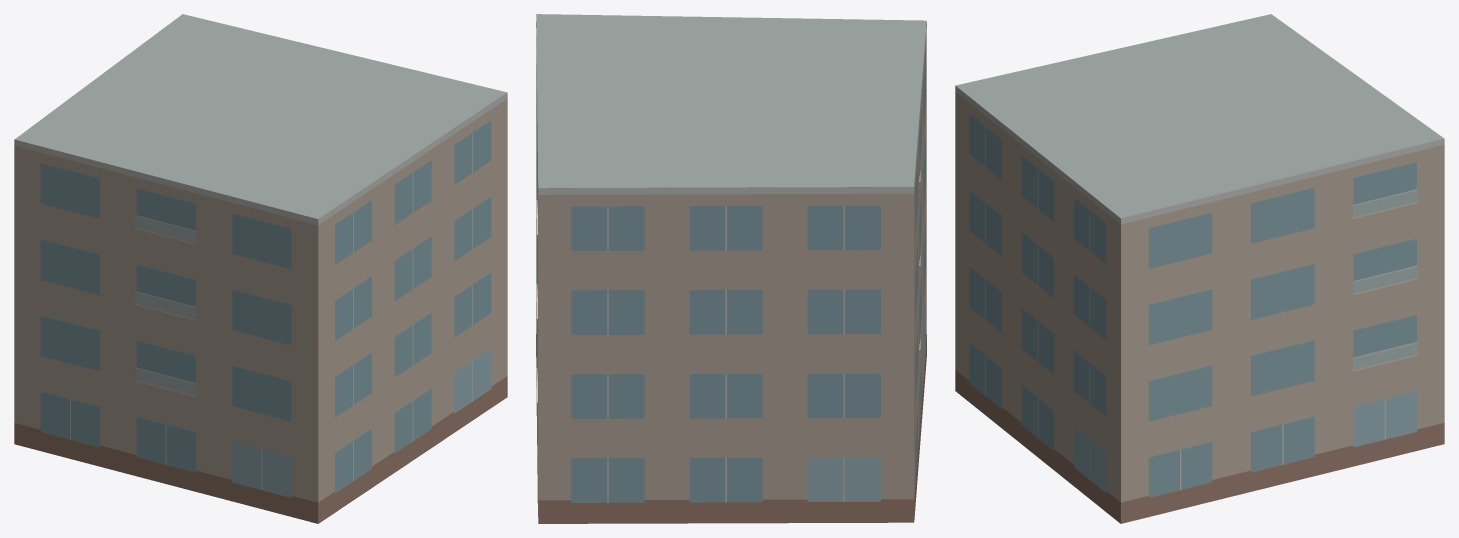
The model's file is survey-upis-32929543.glb.
The picture shows the model from 3 angles, left to right: view 1: azimuth 30°, elevation 25°; view 2: azimuth 150°, elevation 25°; view 3: azimuth 270°, elevation 25°; orthographic projection. The views are drawn at different scales.
Parts seen in each view (by area): view 1: survey-upis-32929543.tmp; view 2: survey-upis-32929543.tmp; view 3: survey-upis-32929543.tmp.
Boxes of the visible parts, x1,y1,x2,y2 form: survey-upis-32929543.tmp: [14, 14, 507, 523]; survey-upis-32929543.tmp: [536, 14, 926, 523]; survey-upis-32929543.tmp: [955, 14, 1444, 523].
Size of the model in its own units: 17.52 by 12.2 by 17.72.
